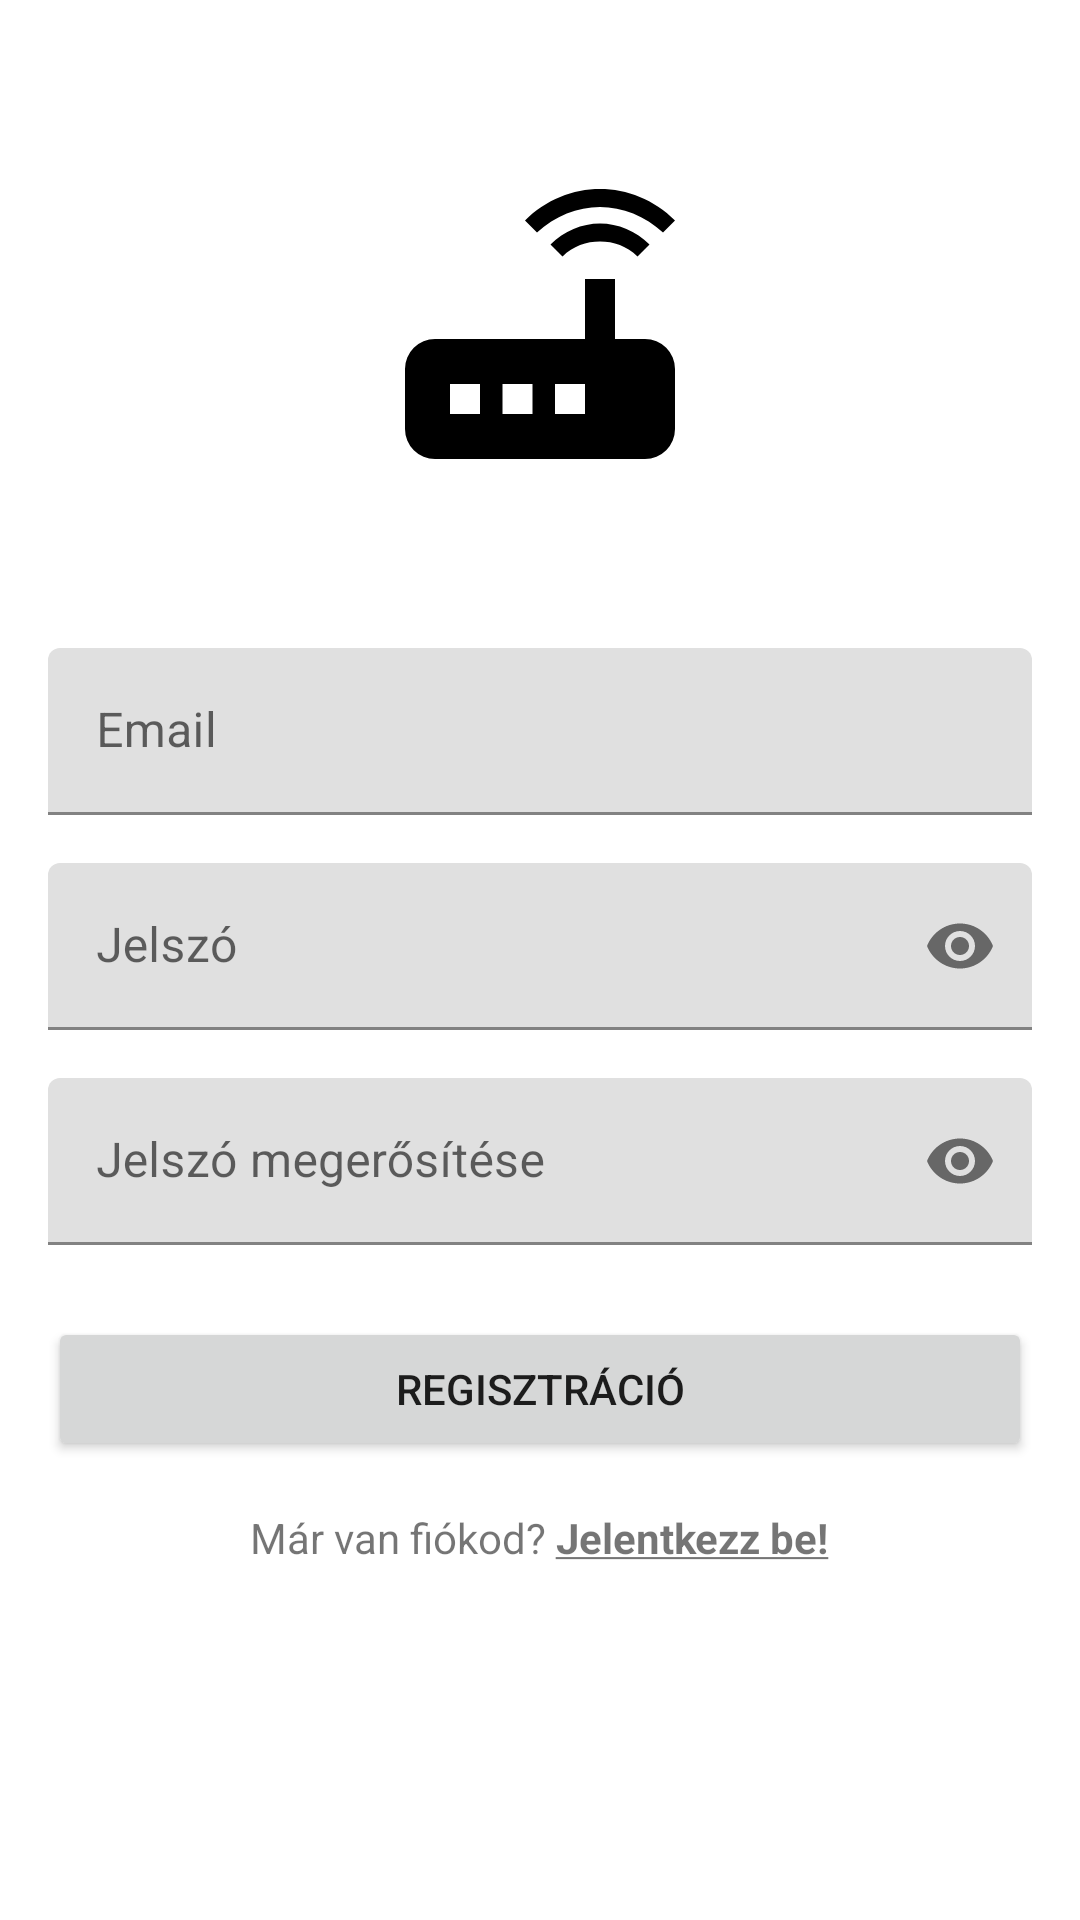

Named icons in this screenshot (1080 x 1920) and their centers, (x=x, y=y):
router: (x=540, y=324)
